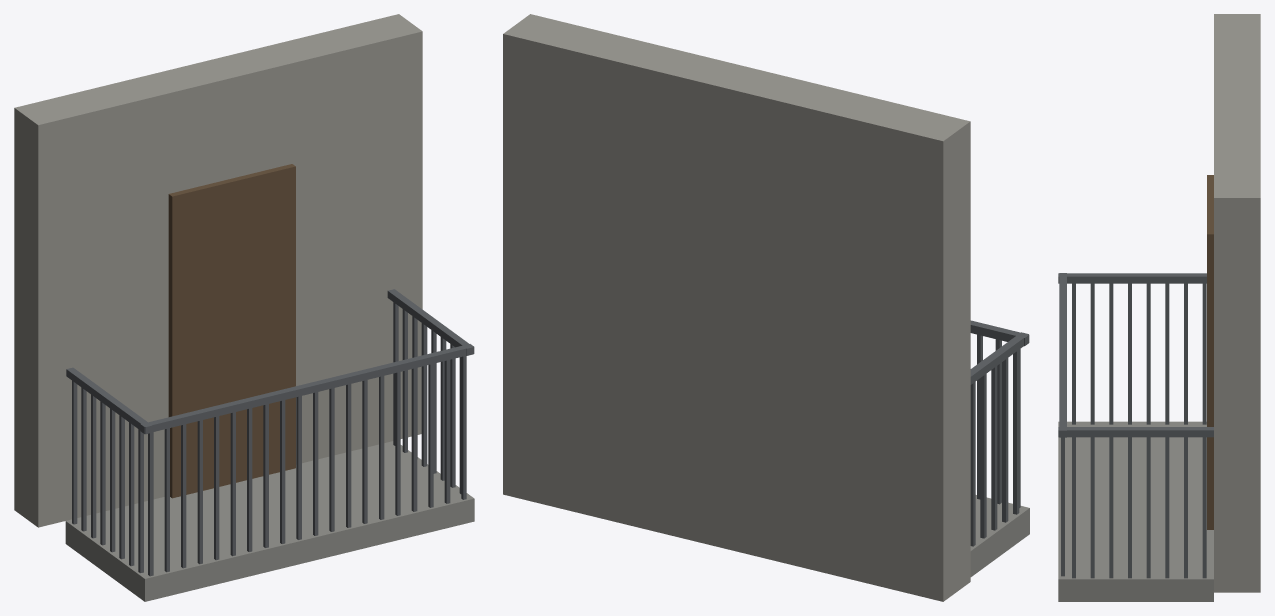
Rendered from balcony_bars.glb.
The picture shows the model from 3 angles, left to right: view 1: azimuth 30°, elevation 25°; view 2: azimuth 150°, elevation 25°; view 3: azimuth 270°, elevation 25°; orthographic projection. The views are drawn at different scales.
Visible parts, largest first — view 1: balcony_mesh; view 2: balcony_mesh; view 3: balcony_mesh.
Boxes of the visible parts, x1,y1,x2,y2 form: balcony_mesh: (14, 14, 474, 601); balcony_mesh: (503, 14, 1029, 601); balcony_mesh: (1058, 14, 1260, 601).
Size of what is drawn, in the model's own units: 2.8 by 2.96 by 1.3.
